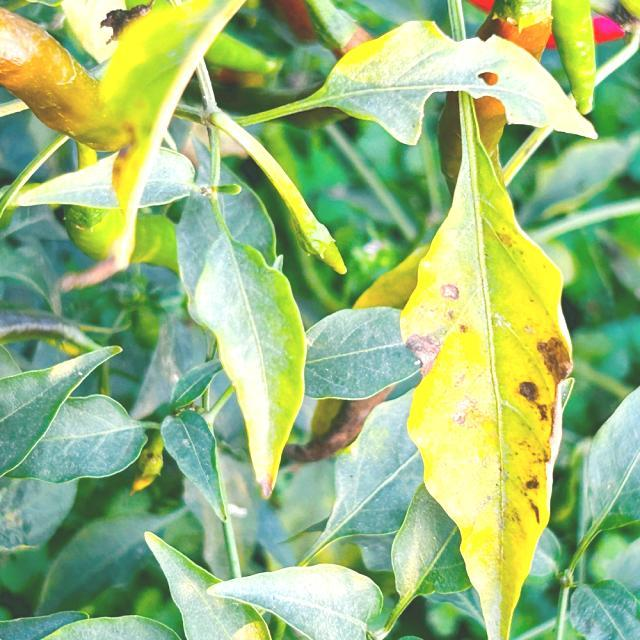Bercak Daun Serkospora: (398, 88, 576, 639)
